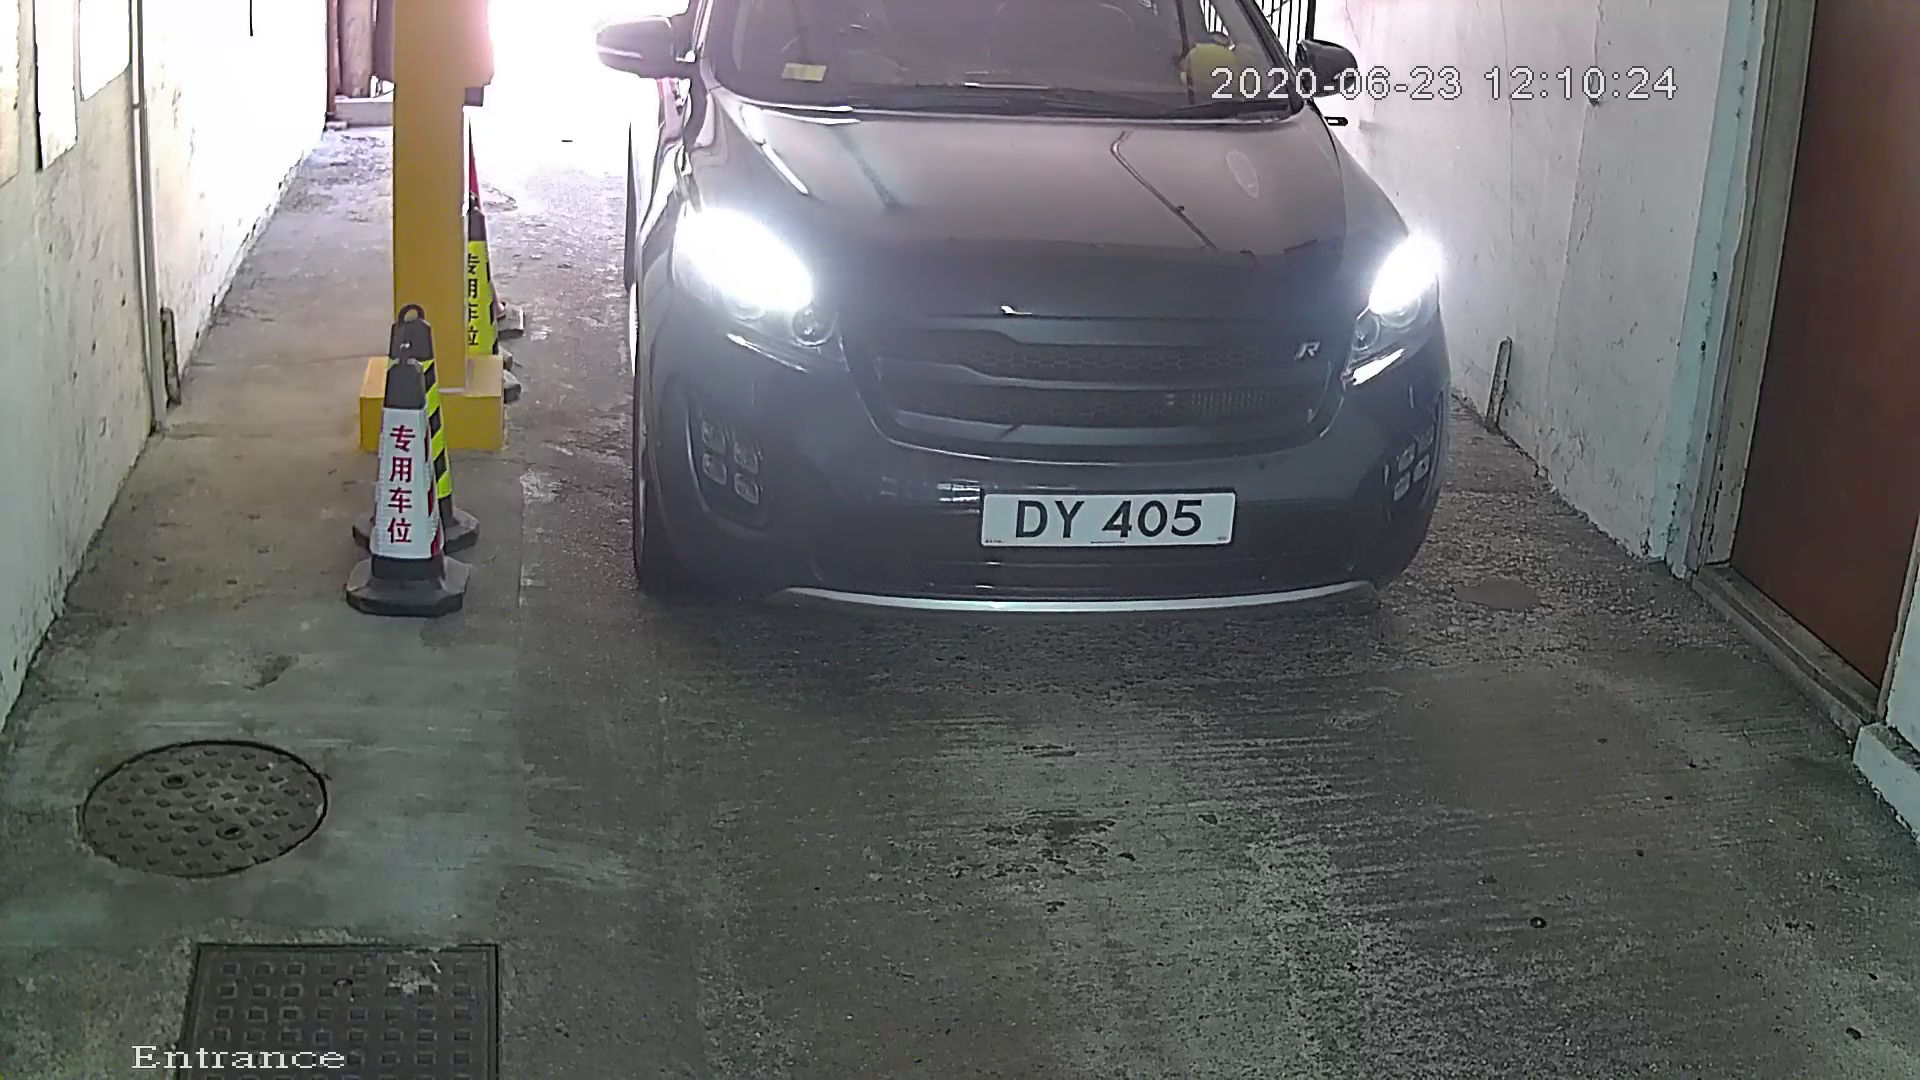privatecar: (542, 3, 1523, 671)
